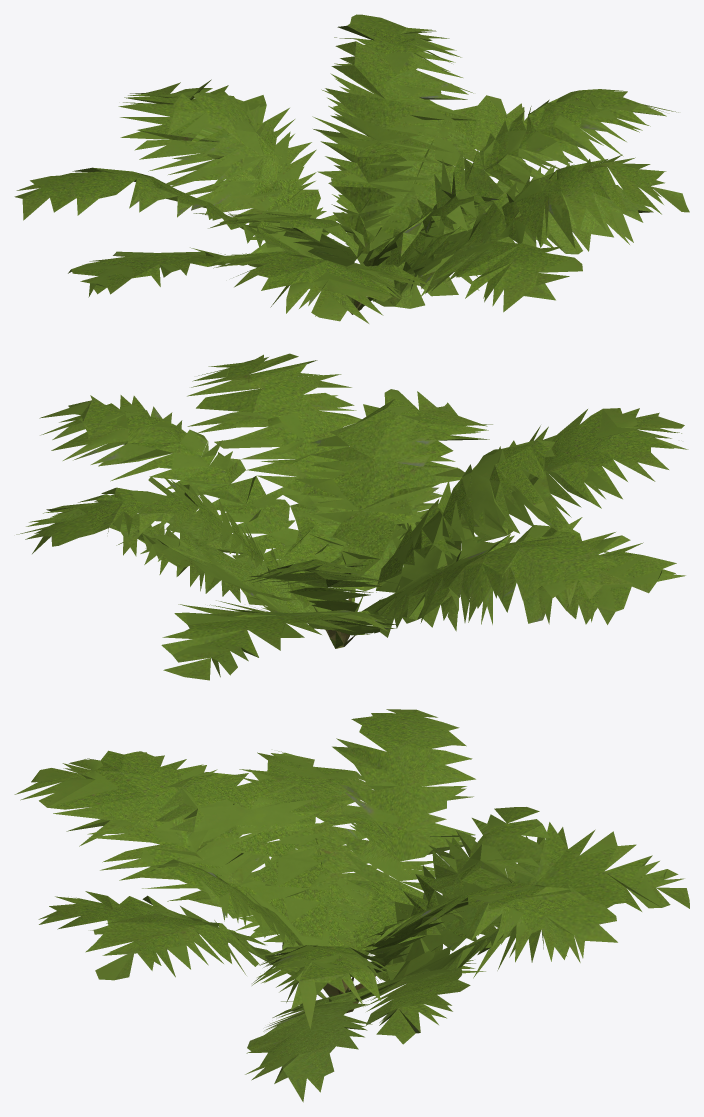
File: fern_cluster.glb
The picture shows the model from 3 angles, top to bottom: view 1: azimuth 30°, elevation 25°; view 2: azimuth 150°, elevation 25°; view 3: azimuth 270°, elevation 25°; orthographic projection. The views are drawn at different scales.
Size of the model in its own units: 1.83 by 0.4992 by 1.73.
Materials: 1 (1 with a texture image).
